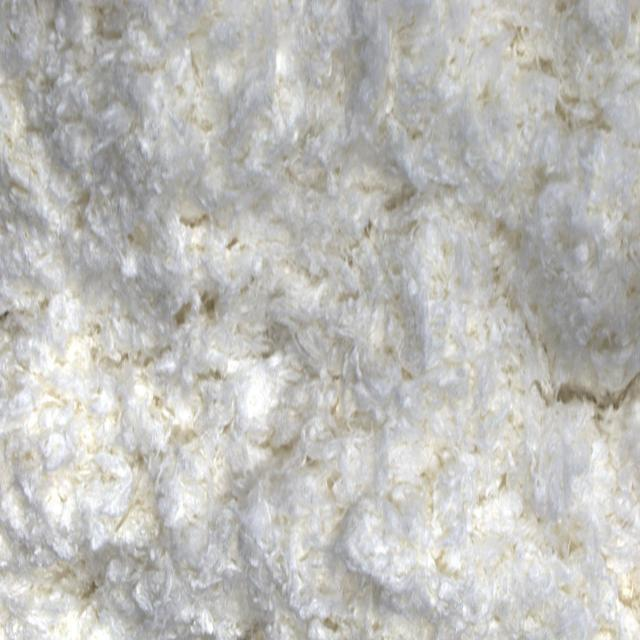dust: (549, 380, 615, 413)
